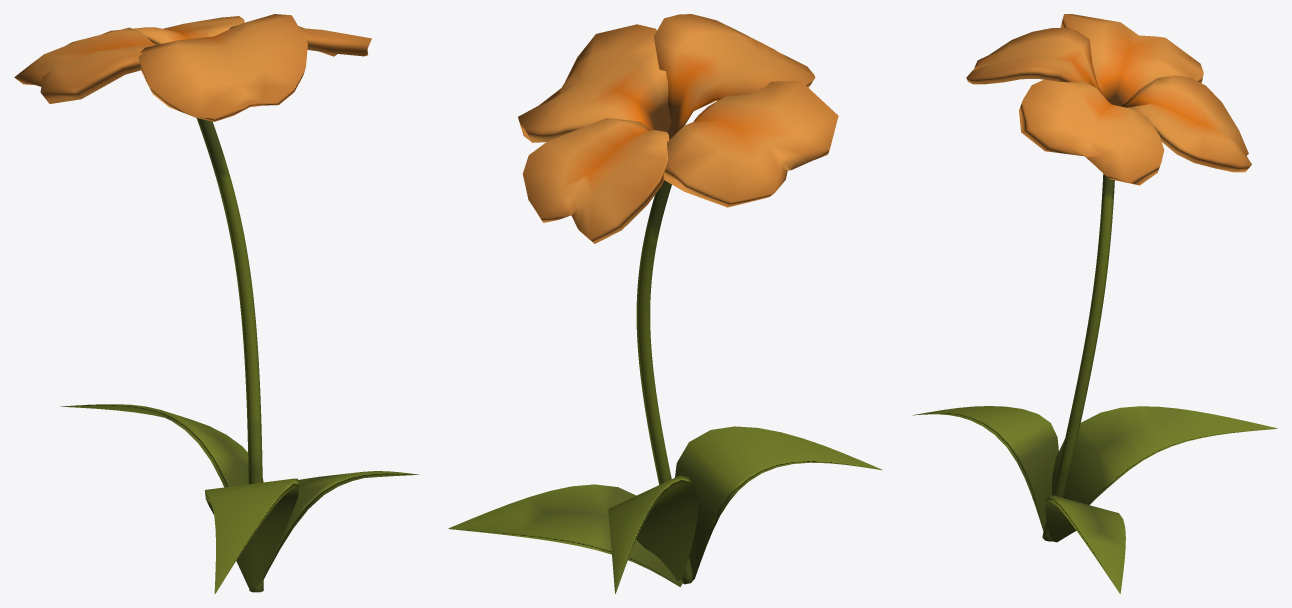
File: flower01.obj
3 views of the same model, side by side, from view 1: azimuth 30°, elevation 25°; view 2: azimuth 150°, elevation 25°; view 3: azimuth 270°, elevation 25° (orthographic). The views are drawn at different scales.
Parts seen in each view (by area): view 1: Main_3, Main, Main_5, Main_7, Main_2, Main_4, Main_8, Main_6; view 2: Main_3, Main_7, Main_5, Main, Main_6, Main_2, Main_4; view 3: Main_3, Main_5, Main_7, Main, Main_8, Main_4, Main_2.
Boxes of the visible parts, box(x1,y1,x2,y2) form: Main_3: box(14, 14, 369, 117); Main: box(196, 118, 263, 592); Main_5: box(163, 410, 360, 589); Main_7: box(63, 406, 418, 593); Main_2: box(41, 30, 336, 105); Main_4: box(15, 19, 371, 121); Main_8: box(217, 471, 417, 590); Main_6: box(60, 404, 231, 507); Main_3: box(518, 14, 838, 238); Main_7: box(636, 426, 881, 580); Main_5: box(448, 480, 682, 593); Main: box(636, 180, 693, 584); Main_6: box(450, 459, 880, 591); Main_2: box(518, 117, 829, 243); Main_4: box(536, 78, 814, 222); Main_3: box(966, 14, 1251, 181); Main_5: box(1052, 406, 1277, 593); Main_7: box(916, 406, 1076, 542); Main: box(1042, 174, 1114, 541); Main_8: box(913, 411, 1274, 591); Main_4: box(1019, 73, 1251, 172); Main_2: box(966, 14, 1248, 185).
Bounding box in the file's own units: 1.47 × 2.09 × 1.42.
1 material, 1 textured.
